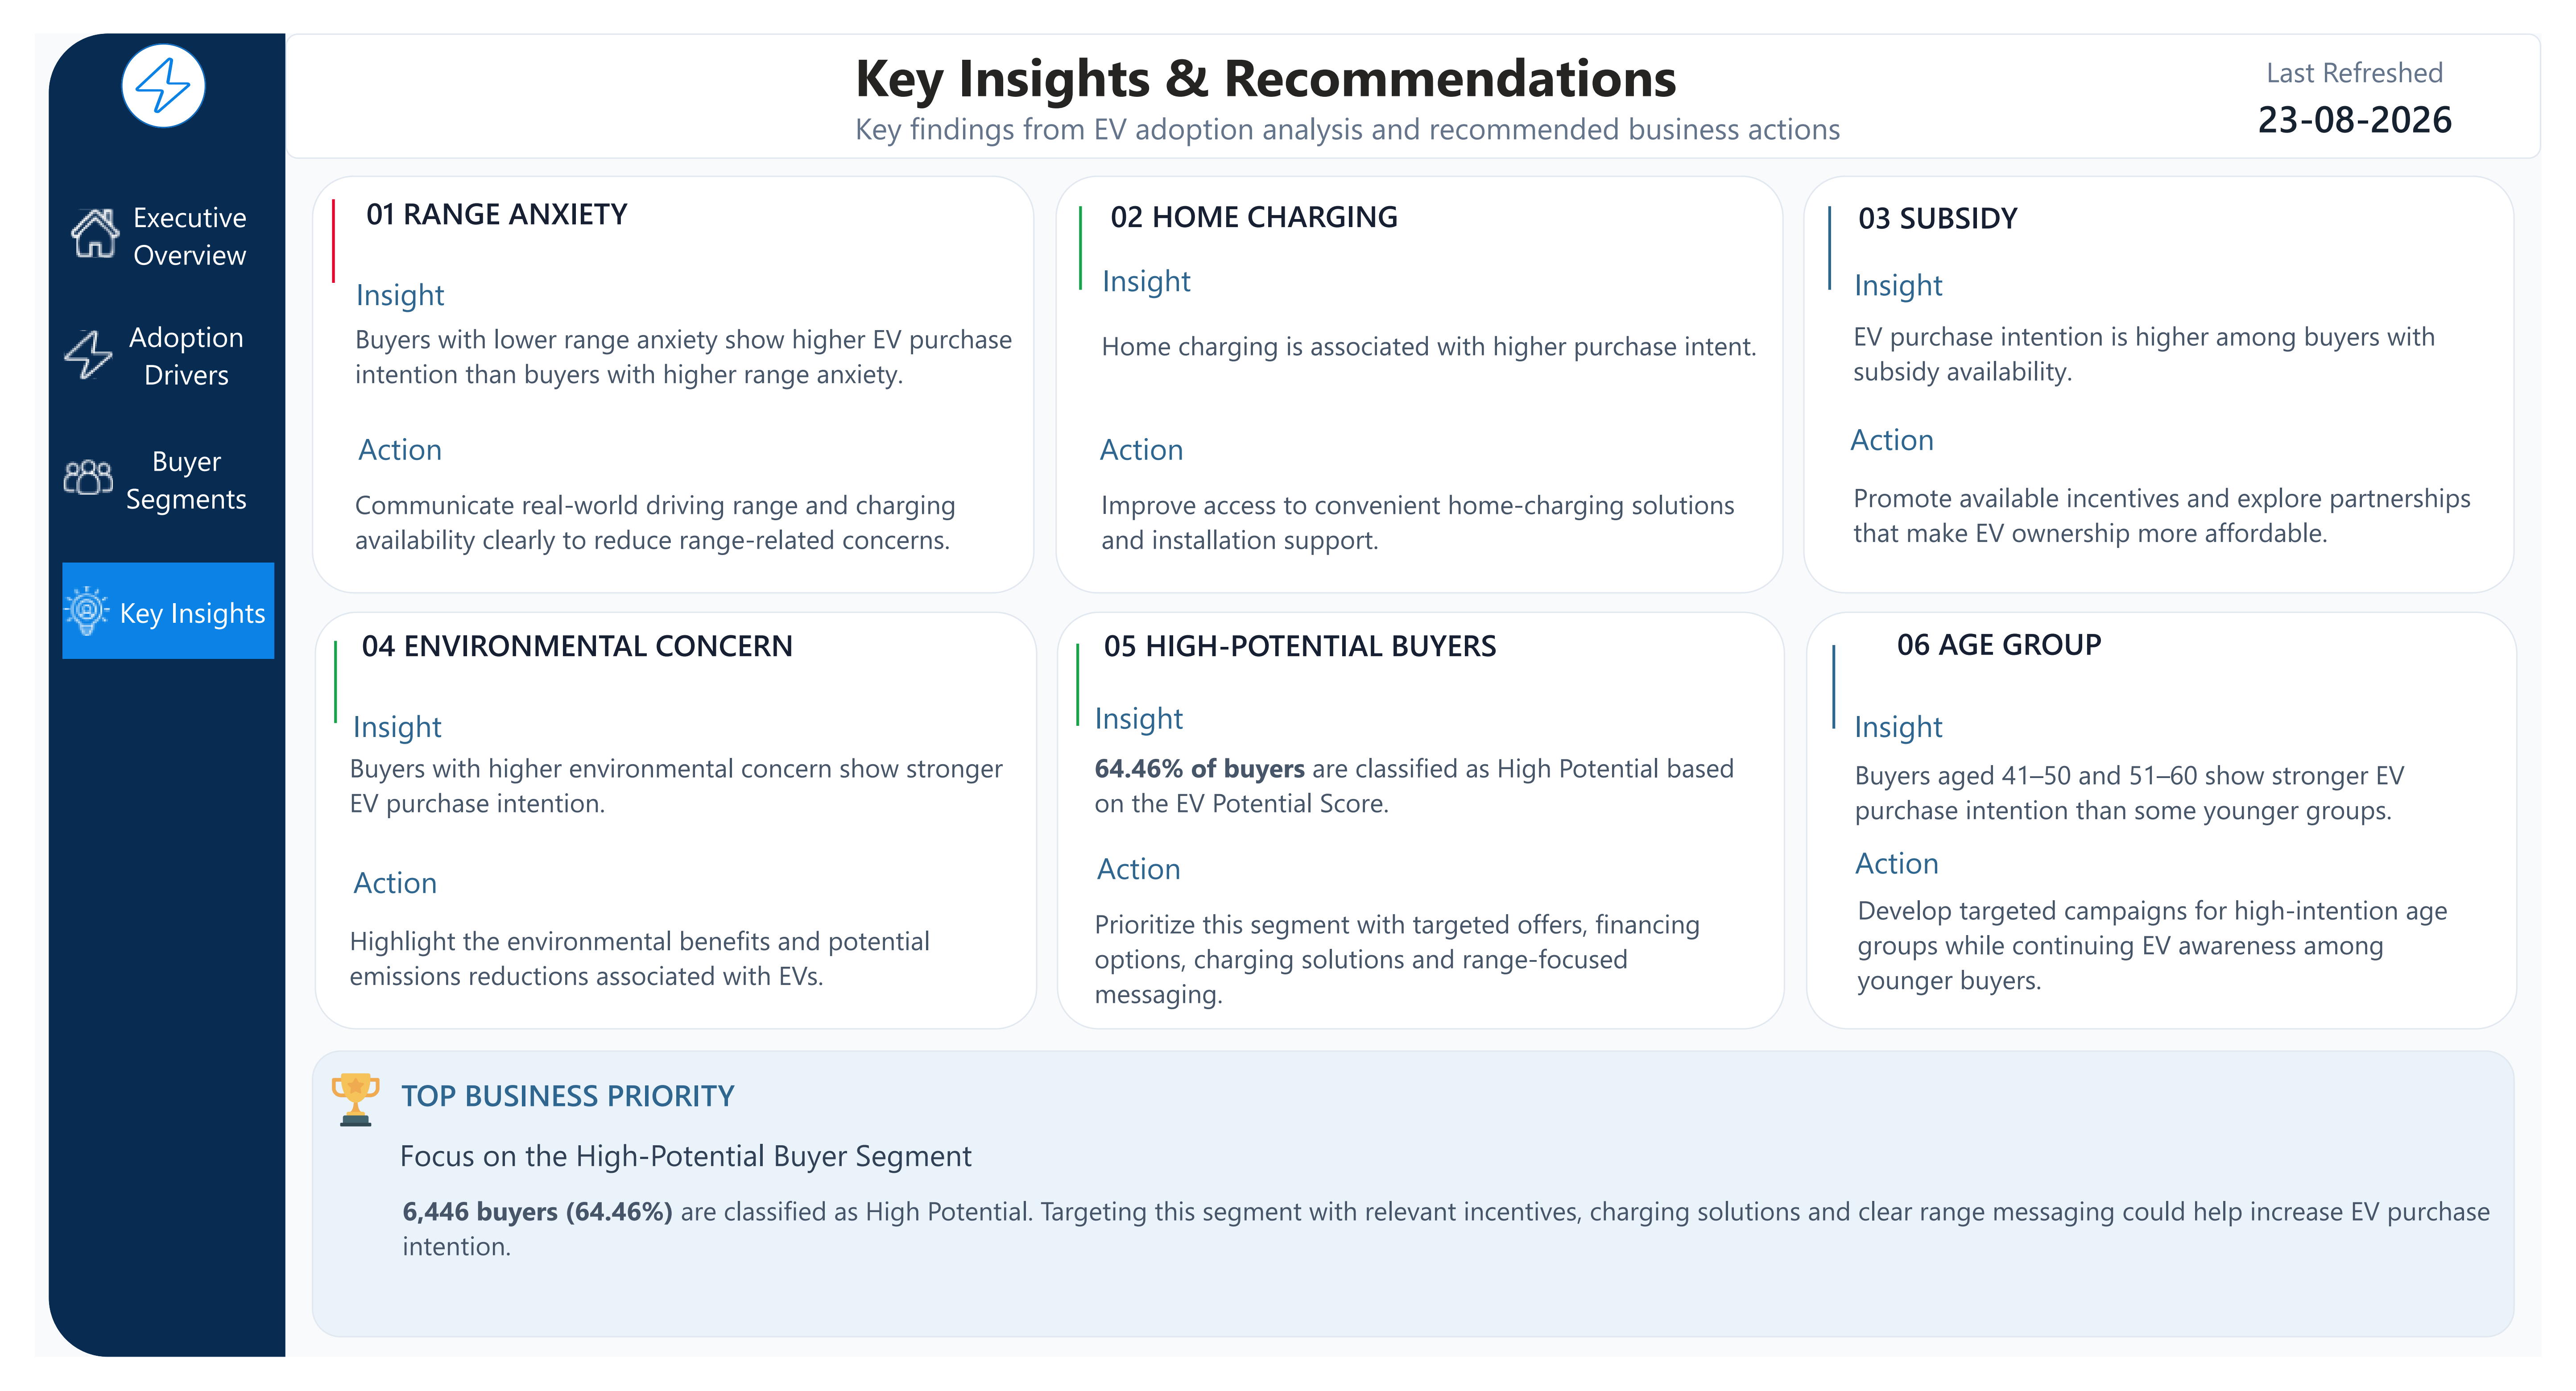

Layout of this report page (visuals, bound fields, positions):
{"tool":"powerbi","page":{"name":"Key Insights","canvas":[1800,950],"ordinal":3},"visuals":[{"type":"shape","box":[180.5,0,1619.1,90],"z":0},{"type":"shape","box":[62.2,6.9,60.5,60.5],"z":0,"group":"g1"},{"type":"shape","box":[10.2,0,170,950],"z":1000},{"type":"image","box":[72.6,17.3,39.8,39.8],"z":1000,"group":"g1"},{"type":"textbox","box":[575.4,0,618,63],"z":2000},{"type":"textbox","box":[566.9,47.7,752.5,40],"z":3000},{"type":"shape","box":[199.2,102.3,519.3,300],"z":4000},{"type":"shape","box":[20.4,379.7,151.5,69.8],"z":5000},{"type":"group","id":"g1","title":"Group 1","box":[62.2,6.9,60.5,60.5],"z":6000},{"type":"actionButton","box":[25.9,108.9,145.2,69.2],"z":7000},{"type":"actionButton","box":[20.7,195.4,150.4,69.2],"z":8000},{"type":"actionButton","box":[20.7,283.6,150.4,69.2],"z":9000},{"type":"actionButton","box":[20.4,379.7,150.4,69.2],"z":10000},{"type":"cardVisual","fields":{"Data":["_Measures.Last Refreshed"]},"box":[1535.4,0,262.8,89.9],"z":11000},{"type":"shape","box":[732.9,102.3,522.7,300],"z":12000},{"type":"shape","box":[1270.1,102.3,510.8,300],"z":13000},{"type":"shape","box":[200.8,415.5,519.3,300],"z":14000},{"type":"shape","box":[734.5,415.5,522.7,300],"z":15000},{"type":"shape","box":[1271.8,415.4,510.8,299.6],"z":16000},{"type":"shape","box":[199.2,730.4,1581.6,206],"z":17000},{"type":"textbox","box":[224.7,109,214.5,42.6],"z":18000},{"type":"textbox","box":[212.8,166.8,98.7,42.6],"z":19000},{"type":"textbox","box":[224.7,200.9,483.5,76.6],"z":20000},{"type":"textbox","box":[212.8,277.5,98.7,42.6],"z":21000},{"type":"textbox","box":[224.7,320.1,471.6,68.1],"z":22000},{"type":"textbox","box":[761,110.7,229.8,42.6],"z":23000},{"type":"textbox","box":[749.1,156.6,98.7,42.6],"z":24000},{"type":"textbox","box":[761,206,483.5,57.9],"z":25000},{"type":"textbox","box":[745.7,277.5,98.7,42.6],"z":26000},{"type":"textbox","box":[761,320.1,471.6,66.4],"z":27000},{"type":"textbox","box":[1292.2,112.4,149.8,42.6],"z":28000},{"type":"textbox","box":[1288.8,160,98.7,42.6],"z":29000},{"type":"textbox","box":[1300.7,199.2,463.1,74.9],"z":30000},{"type":"textbox","box":[1292.2,270.7,83.4,42.6],"z":31000},{"type":"textbox","box":[1300.7,315,463.1,66.4],"z":32000},{"type":"textbox","box":[212.8,418.8,354.1,42.6],"z":33000},{"type":"textbox","box":[211.1,476.7,98.7,42.6],"z":34000},{"type":"textbox","box":[221.3,509.1,483.5,66.4],"z":35000},{"type":"textbox","box":[219.6,589.1,78.3,42.6],"z":36000},{"type":"textbox","box":[221.3,633.3,471.6,66.4],"z":37000},{"type":"textbox","box":[755.9,418.8,306.5,40],"z":38000},{"type":"textbox","box":[743.6,471.2,98.7,42.6],"z":39000},{"type":"textbox","box":[755.7,508.8,483.5,66.4],"z":40000},{"type":"textbox","box":[754,578.6,78.3,42.6],"z":41000},{"type":"textbox","box":[755.6,620.7,472,93.4],"z":42000},{"type":"textbox","box":[1326.2,418.4,169.5,39.8],"z":43000},{"type":"textbox","box":[1288.8,476.7,98.7,42.6],"z":44000},{"type":"textbox","box":[1302.4,514.2,420.5,66.4],"z":45000},{"type":"textbox","box":[1304.1,611.2,454.6,93.6],"z":46000},{"type":"textbox","box":[1299,575.4,76.6,44.3],"z":47000},{"type":"textbox","box":[253.7,742.3,258.8,42.6],"z":48000},{"type":"textbox","box":[257.1,784.9,522.7,42.6],"z":49000},{"type":"textbox","box":[258.8,827.4,1520.3,71.5],"z":50000},{"type":"image","box":[211.1,745.7,39.2,39.2],"z":51000},{"type":"shape","box":[209.4,119.2,10.2,60],"z":52000},{"type":"shape","box":[1283.7,124.3,10.2,60],"z":53000},{"type":"shape","box":[745.7,124.3,10.2,59.6],"z":54000},{"type":"shape","box":[211.1,435.8,10.2,59.6],"z":55000},{"type":"shape","box":[744,437.5,10.2,59.6],"z":56000},{"type":"shape","box":[1287.1,439.2,10.2,59.6],"z":57000}]}

Visuals, with their boxes on the page's 1800x950 design canvas (x1, y1, x2, y2). These are canvas units, not pixel positions in the 2576x1391 screenshot, which may show the page scaled, cropped or inside an application window:
shape: (180,0,1800,90)
shape: (62,7,123,67)
shape: (10,0,180,950)
image: (73,17,112,57)
textbox: (575,0,1193,63)
textbox: (567,48,1319,88)
shape: (199,102,718,402)
shape: (20,380,172,450)
"Group 1" group: (62,7,123,67)
actionButton: (26,109,171,178)
actionButton: (21,195,171,265)
actionButton: (21,284,171,353)
actionButton: (20,380,171,449)
cardVisual - _Measures.Last Refreshed: (1535,0,1798,90)
shape: (733,102,1256,402)
shape: (1270,102,1781,402)
shape: (201,416,720,716)
shape: (734,416,1257,716)
shape: (1272,415,1783,715)
shape: (199,730,1781,936)
textbox: (225,109,439,152)
textbox: (213,167,312,209)
textbox: (225,201,708,278)
textbox: (213,278,312,320)
textbox: (225,320,696,388)
textbox: (761,111,991,153)
textbox: (749,157,848,199)
textbox: (761,206,1244,264)
textbox: (746,278,844,320)
textbox: (761,320,1233,386)
textbox: (1292,112,1442,155)
textbox: (1289,160,1388,203)
textbox: (1301,199,1764,274)
textbox: (1292,271,1376,313)
textbox: (1301,315,1764,381)
textbox: (213,419,567,461)
textbox: (211,477,310,519)
textbox: (221,509,705,576)
textbox: (220,589,298,632)
textbox: (221,633,693,700)
textbox: (756,419,1062,459)
textbox: (744,471,842,514)
textbox: (756,509,1239,575)
textbox: (754,579,832,621)
textbox: (756,621,1228,714)
textbox: (1326,418,1496,458)
textbox: (1289,477,1388,519)
textbox: (1302,514,1723,581)
textbox: (1304,611,1759,705)
textbox: (1299,575,1376,620)
textbox: (254,742,512,785)
textbox: (257,785,780,828)
textbox: (259,827,1779,899)
image: (211,746,250,785)
shape: (209,119,220,179)
shape: (1284,124,1294,184)
shape: (746,124,756,184)
shape: (211,436,221,495)
shape: (744,438,754,497)
shape: (1287,439,1297,499)
